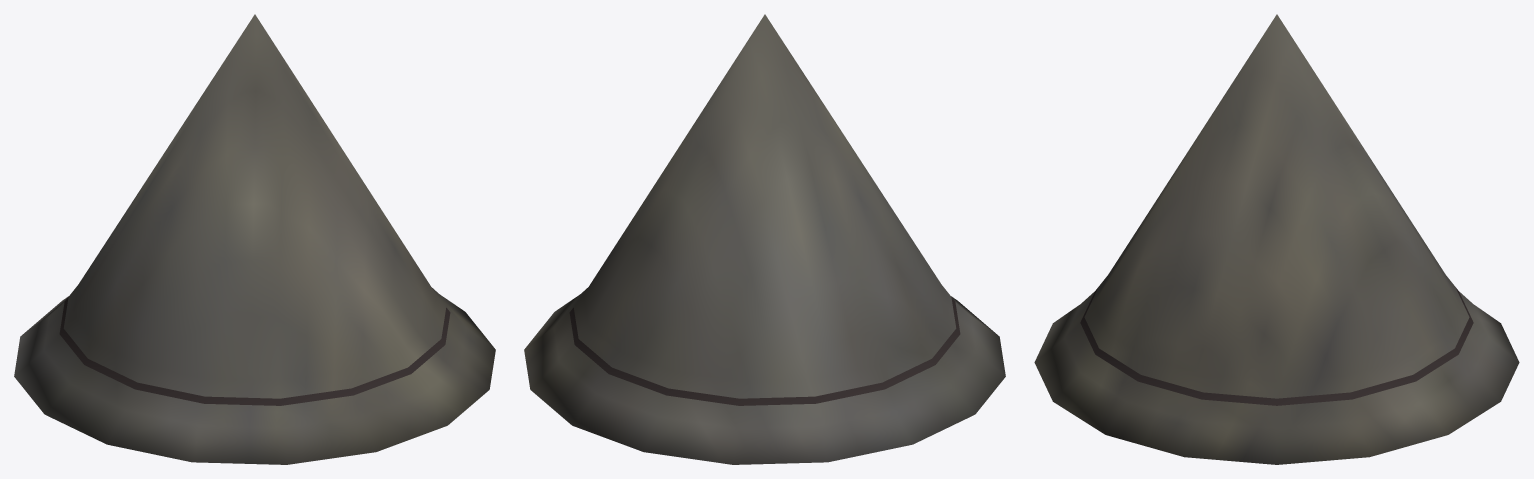
Rendered from roof.fbx.
3 renders of one model, left to right at view 1: azimuth 30°, elevation 25°; view 2: azimuth 150°, elevation 25°; view 3: azimuth 270°, elevation 25°, orthographic.
Visible parts, largest first — view 1: roof; view 2: roof; view 3: roof.
Boxes of the visible parts, bbox=[...] form: roof: bbox=[14, 14, 495, 464]; roof: bbox=[524, 14, 1005, 464]; roof: bbox=[1034, 14, 1519, 464].
Size of the model in its own units: 274 by 217 by 274.
